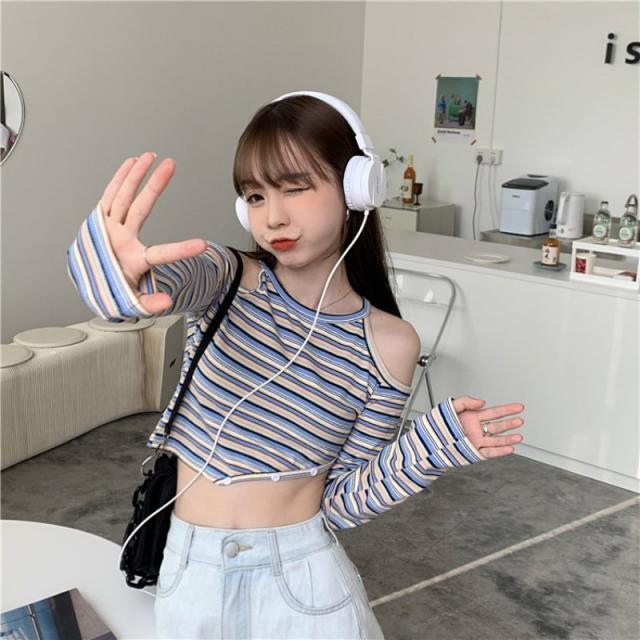Shirt: (66, 242, 482, 530)
